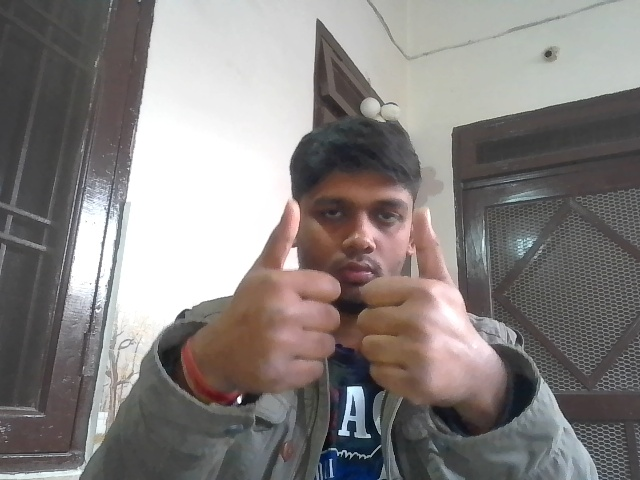Excellent: (215, 193, 490, 431)
